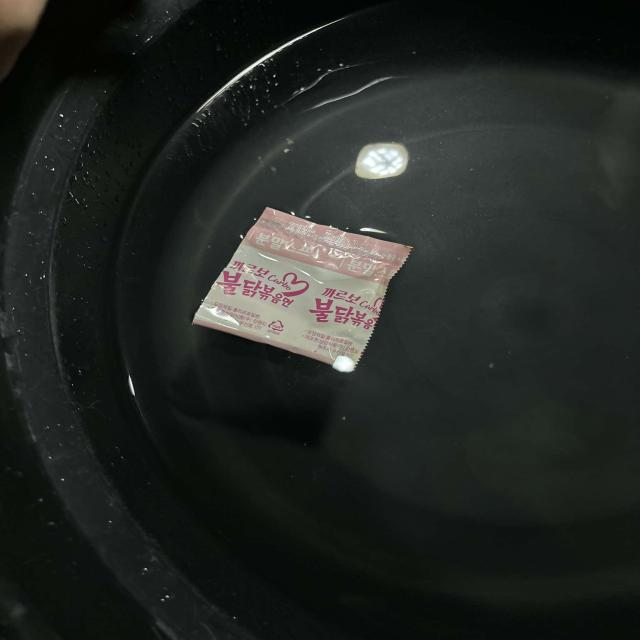Plastic Wrapper: (175, 190, 434, 380)
